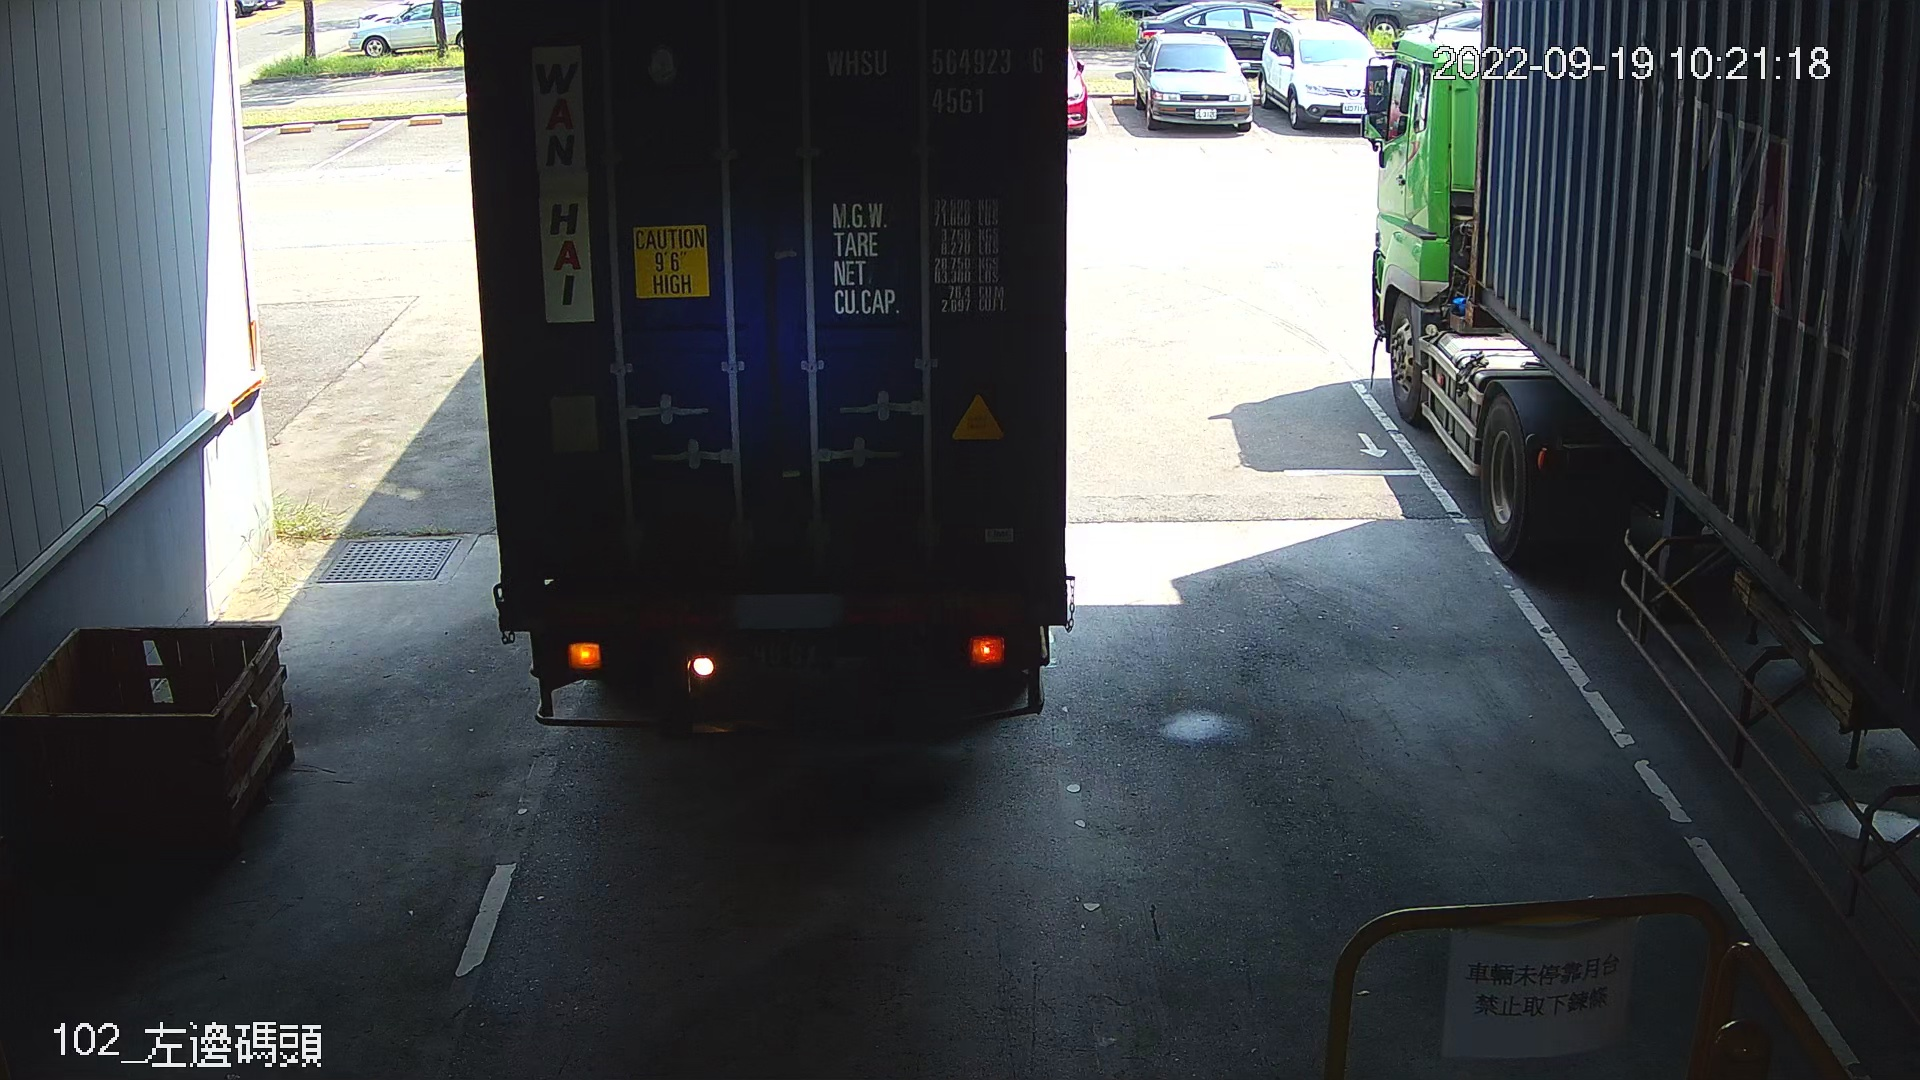container: (819, 38, 1054, 123)
